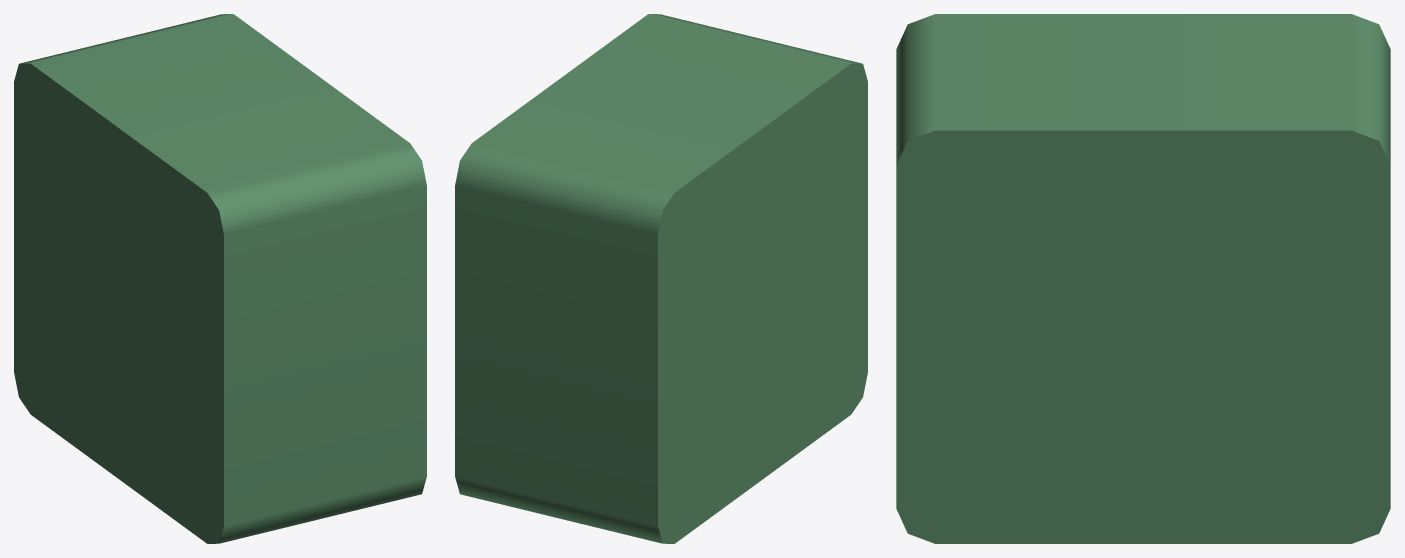
File: Wrist_Sweatband.fbx
The picture shows the model from 3 angles, left to right: view 1: azimuth 30°, elevation 25°; view 2: azimuth 150°, elevation 25°; view 3: azimuth 270°, elevation 25°; orthographic projection. The views are drawn at different scales.
Visible parts, largest first — view 1: Wrist_Sweatband; view 2: Wrist_Sweatband; view 3: Wrist_Sweatband.
Boxes of the visible parts, x1,y1,x2,y2 form: Wrist_Sweatband: (14,14,426,543); Wrist_Sweatband: (455,14,867,543); Wrist_Sweatband: (896,14,1390,543).
Size of the model in its own units: 0.4592 by 0.7591 by 0.8228.
